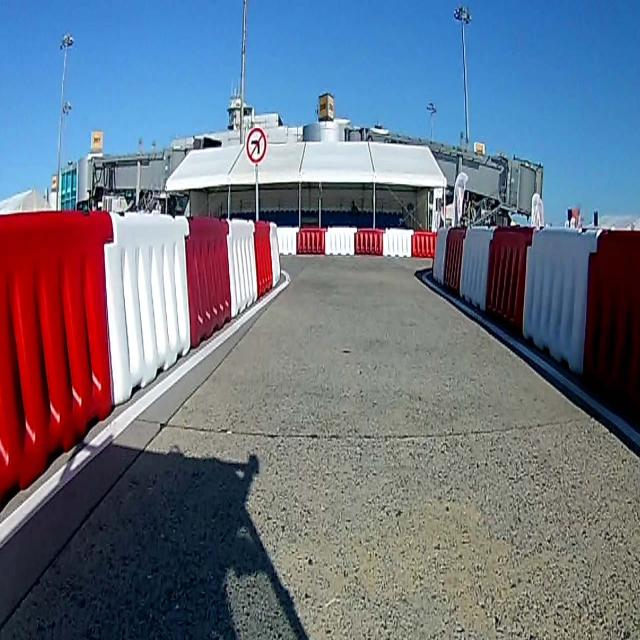soladonulmez: (246, 130, 268, 161)
